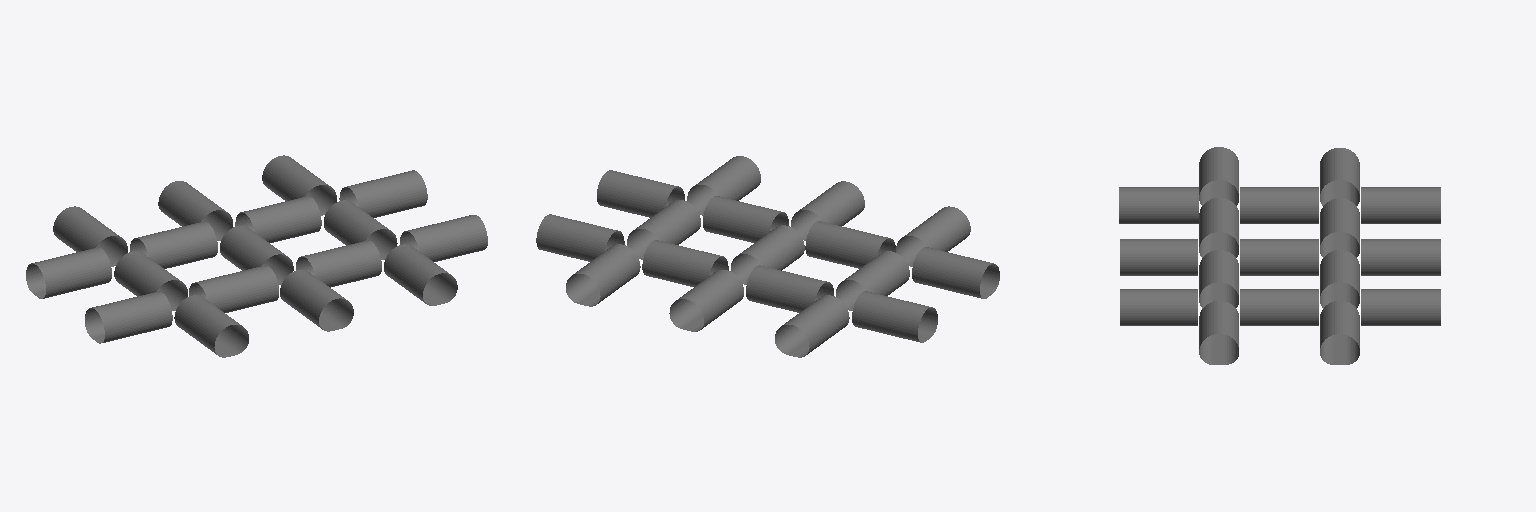
The model's file is map.obj.
3 views of the same model, side by side, from view 1: azimuth 30°, elevation 25°; view 2: azimuth 150°, elevation 25°; view 3: azimuth 270°, elevation 25° (orthographic).
Size of the model in its own units: 43.93 by 3.42 by 32.03.